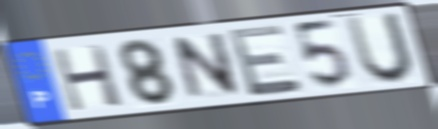5: (289, 16, 354, 93)
8: (116, 36, 177, 109)
E: (224, 22, 306, 100)
H: (49, 42, 126, 114)
N: (170, 30, 244, 103)
U: (342, 10, 418, 87)
